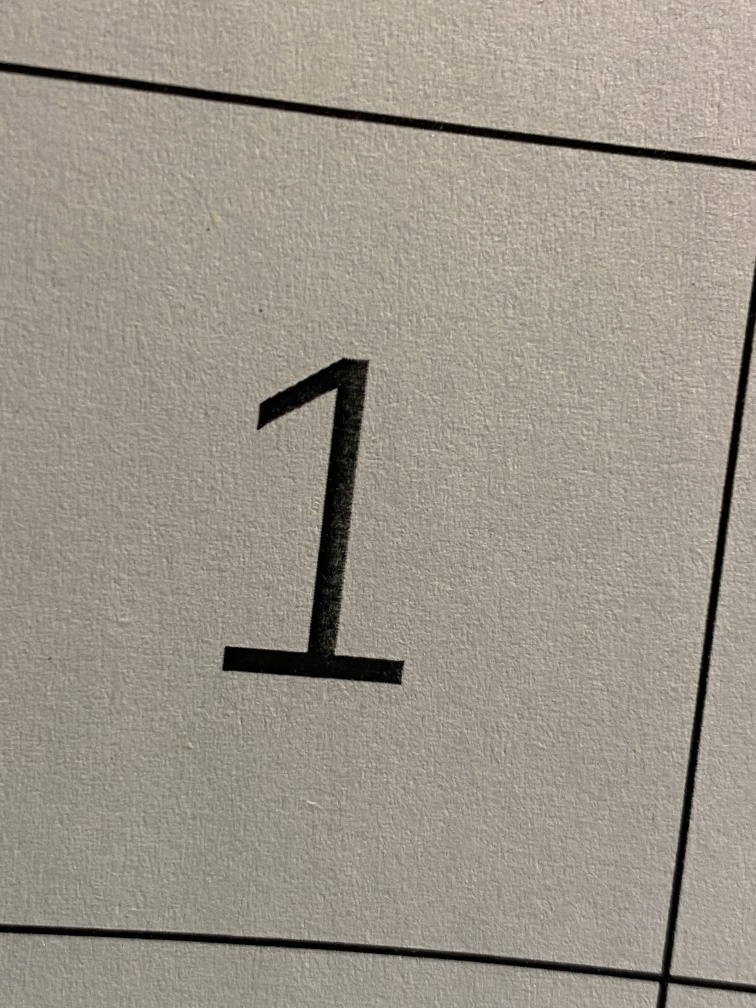one: (191, 298, 463, 775)
